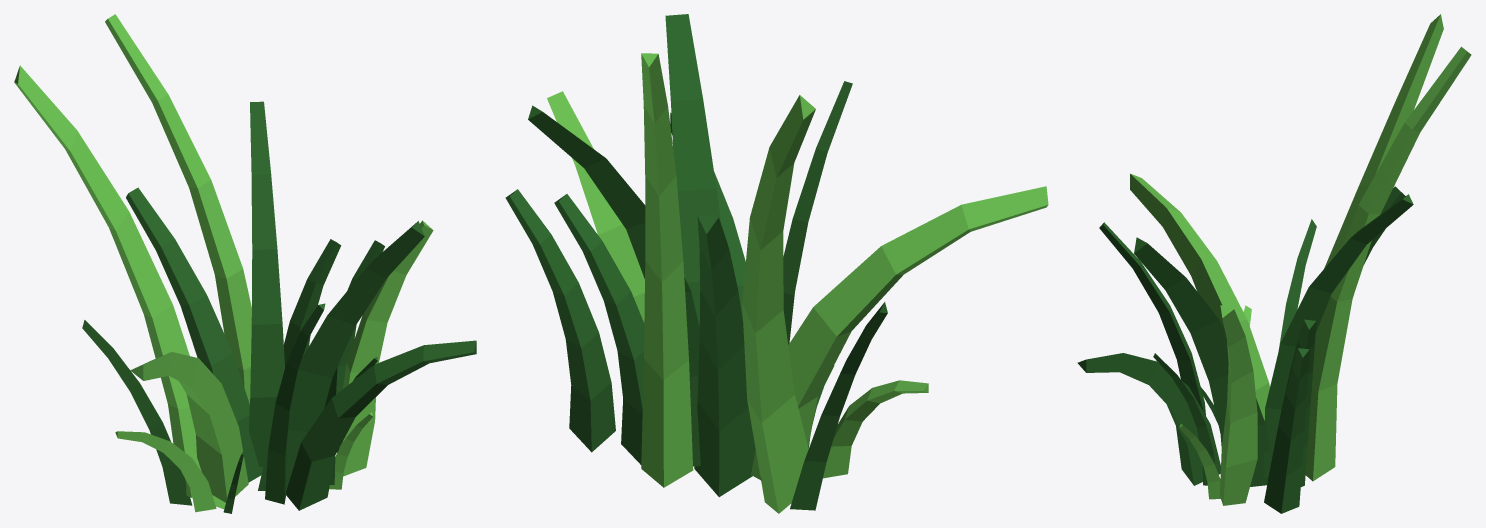
Rendered from Cesped.fbx.
3 renders of one model, left to right at view 1: azimuth 30°, elevation 25°; view 2: azimuth 150°, elevation 25°; view 3: azimuth 270°, elevation 25°, orthographic. The views are drawn at different scales.
Parts seen in each view (by area): view 1: Cesped2; view 2: Cesped2; view 3: Cesped2.
Boxes of the visible parts, x1,y1,x2,y2 form: Cesped2: (14,14,476,513); Cesped2: (505,14,1048,513); Cesped2: (1077,14,1471,513).
Bounding box in the file's own units: 145 × 170 × 145.
